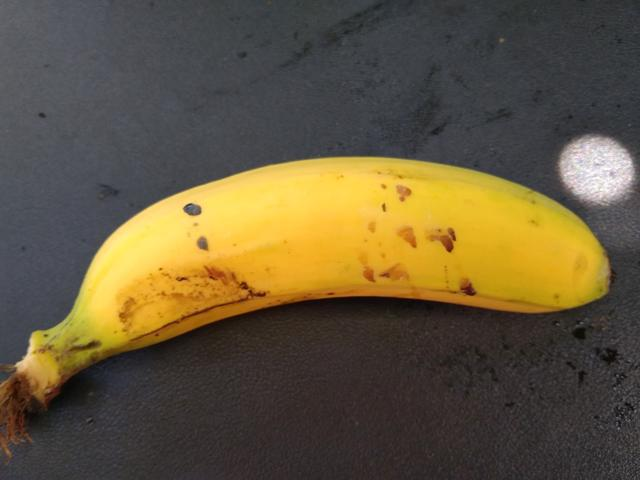ripe: (38, 157, 625, 363)
